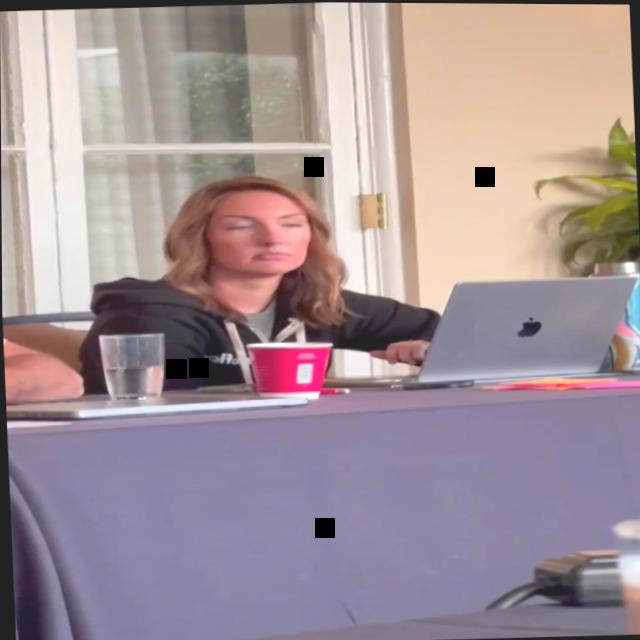NO-Mask: (197, 190, 315, 281)
